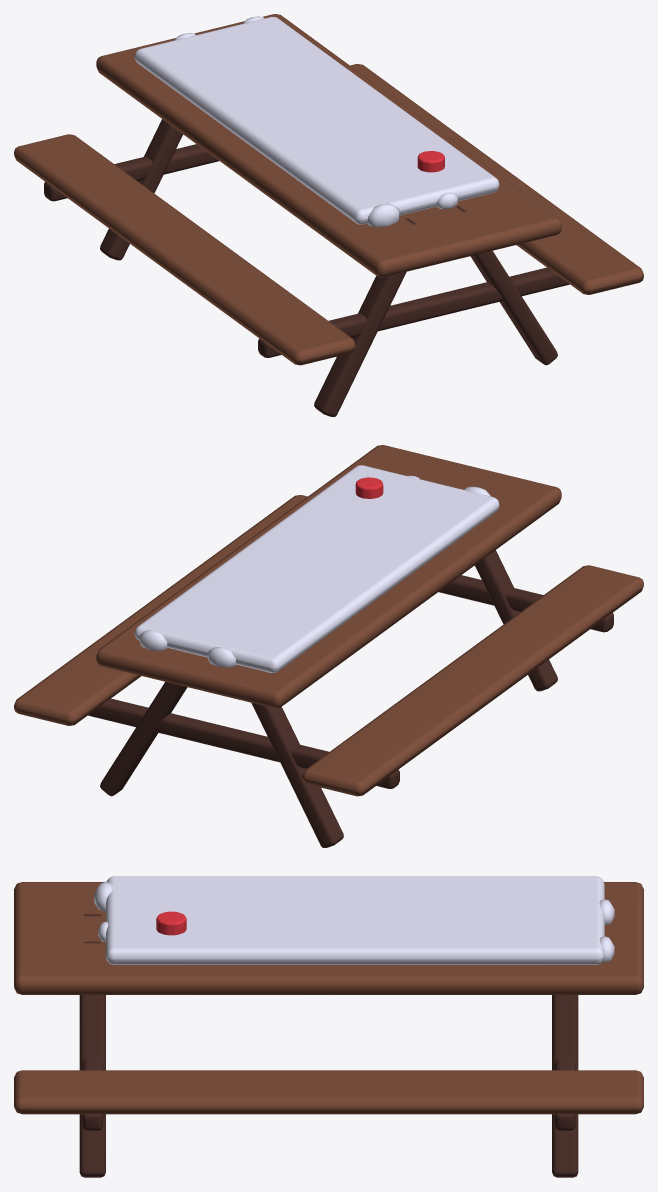
The model's file is frost_table.glb.
3 views of the same model, one above another, from view 1: azimuth 30°, elevation 25°; view 2: azimuth 150°, elevation 25°; view 3: azimuth 270°, elevation 25° (orthographic). The views are drawn at different scales.
Visible parts, largest first — view 1: Table; view 2: Table; view 3: Table.
Part boxes in pixels (<box>): Table: <box>14,14,643,416</box>; Table: <box>14,445,643,847</box>; Table: <box>14,876,643,1177</box>.
Size of the model in its own units: 1.7 by 0.9217 by 2.4.
